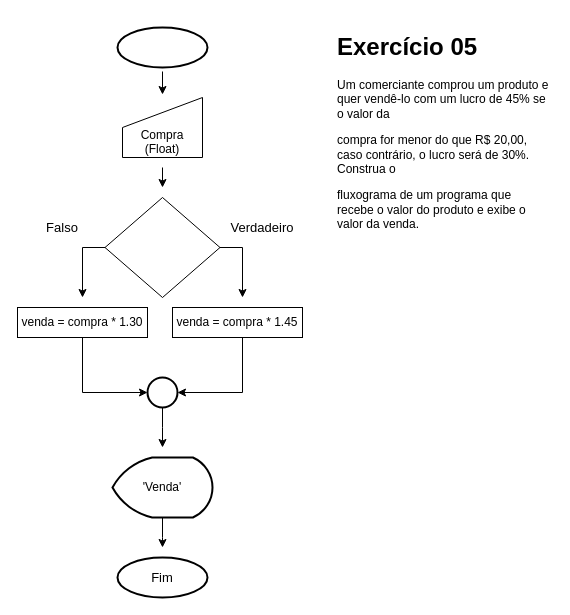
This 570x615 diagram has some shape labels left out. Each missing label, with the centre of its shape:
Compra < 20.0: the point at 162,247
Inicio: the point at 162,47
